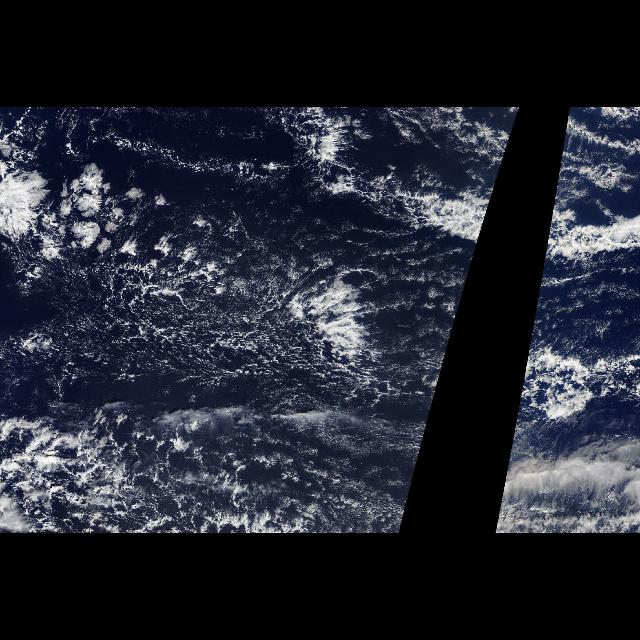Gravel: (1, 252, 452, 532)
Sugar: (78, 249, 424, 531)
